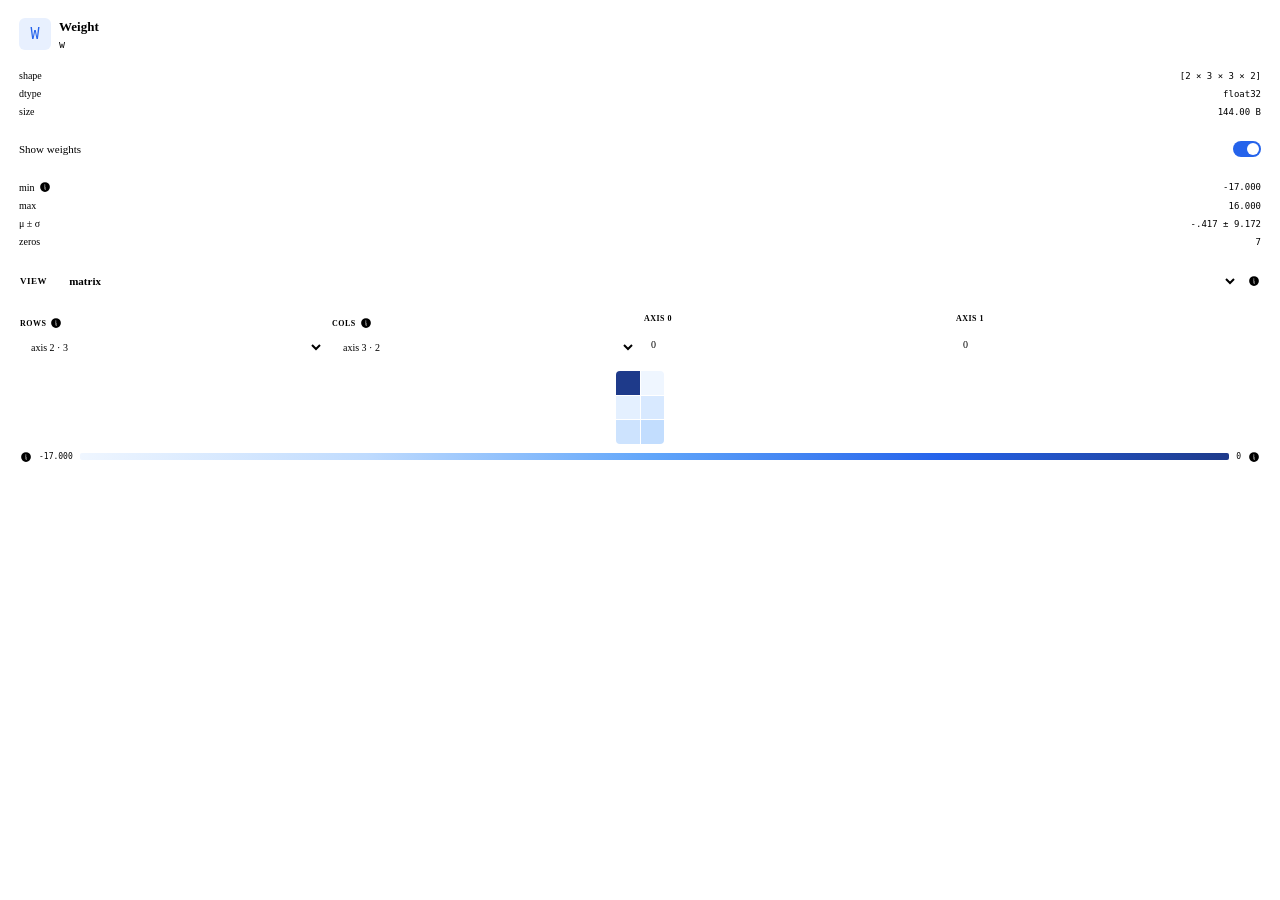
Test: maps the explicit OHWI kernel preset
Select "kernel gallery" in the dropdown named "Weight inspector" at point(648, 281), box x1=57 y1=266 x2=1238 y2=296
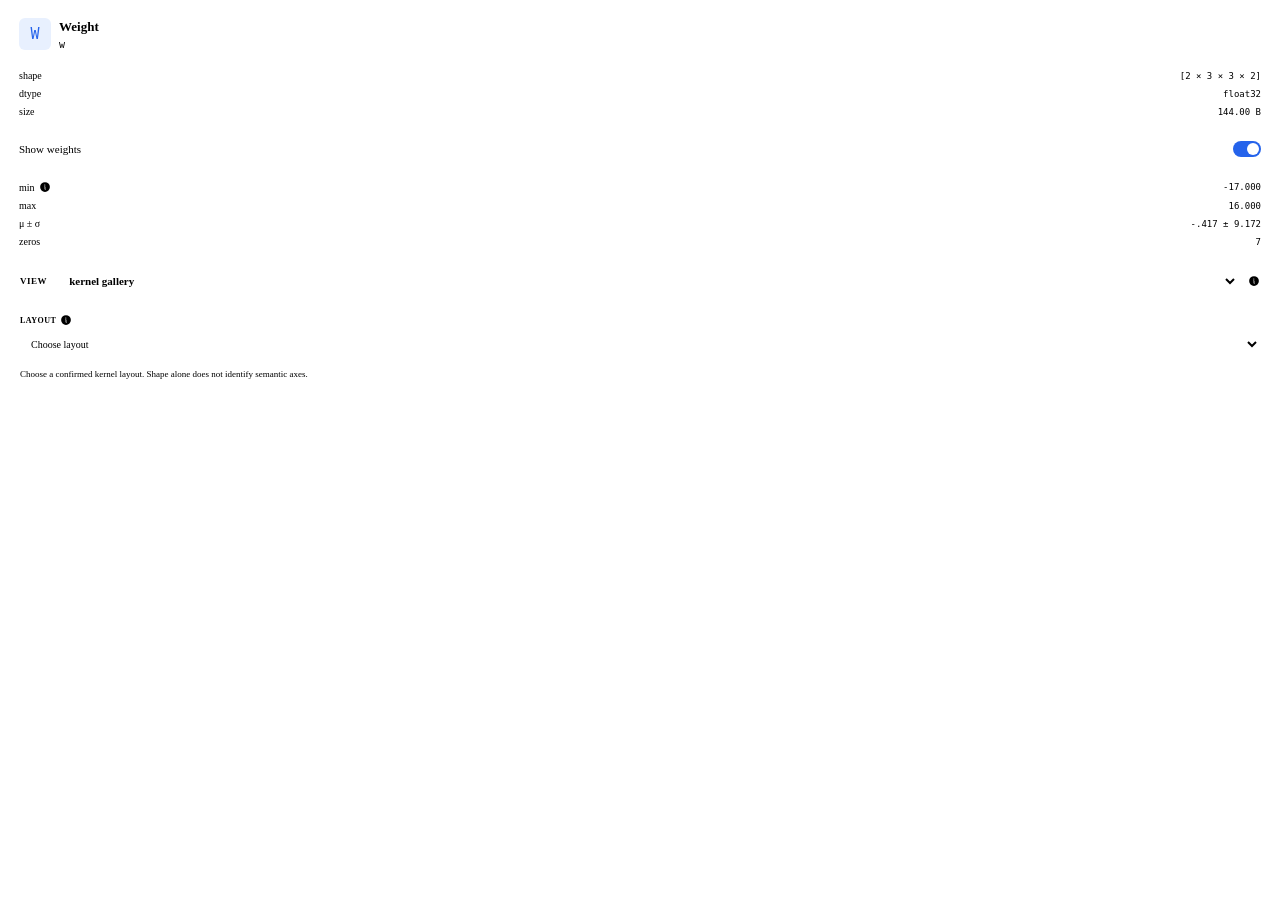
Select "OHWI" in the dropdown named "Kernel layout" at point(640, 344), box x1=20 y1=330 x2=1260 y2=358
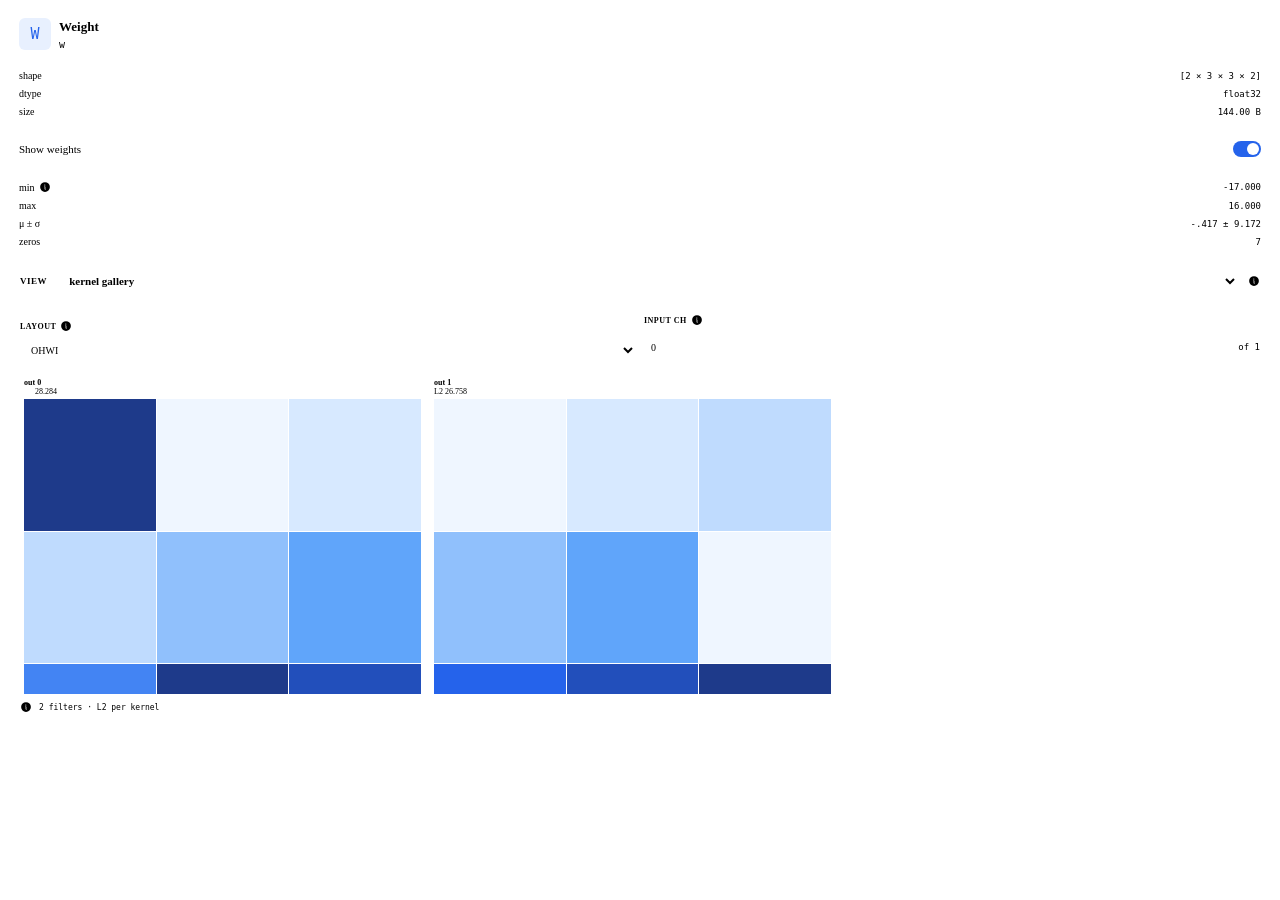
Check: the element titled "input axis 3=0" is shown, box x1=20 y1=374 x2=425 y2=694
